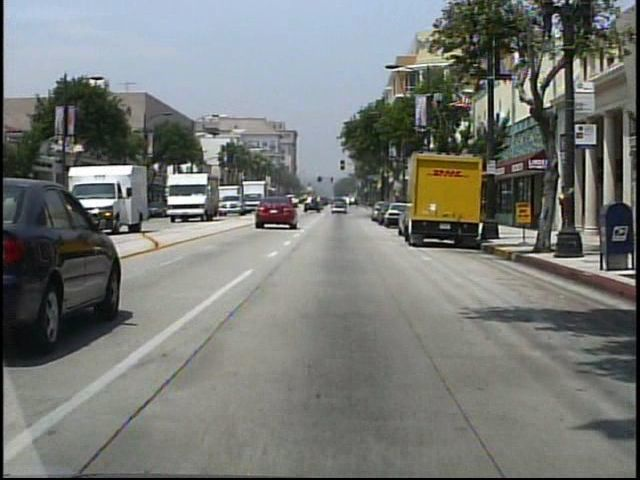person: (558, 184, 577, 237)
